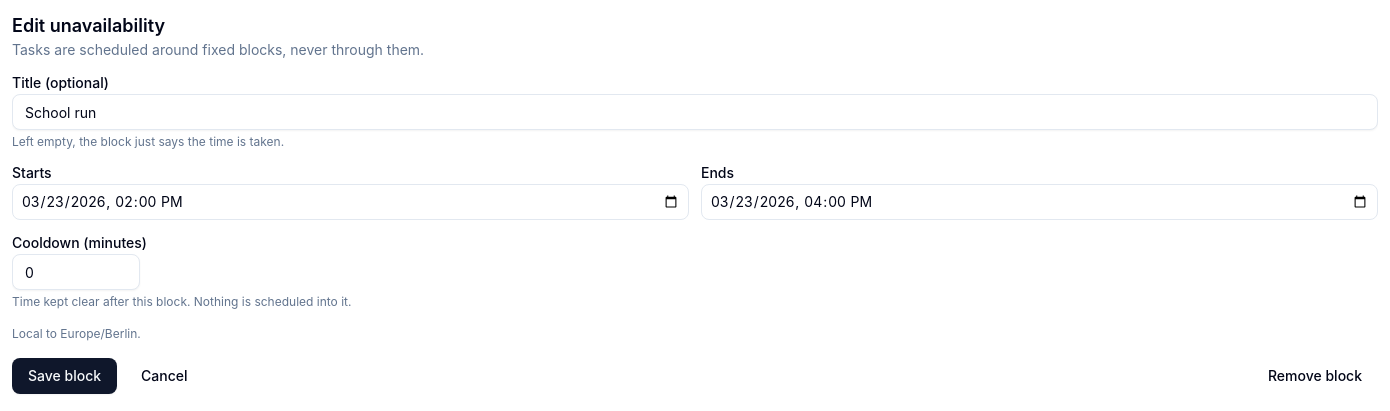
Test: when the start moves › keeps the length of a block that already has one
The width and height of the screenshot is (1390, 411).
Step 1. Replace the text in the field with test id "appointment-start" with "2026-03-23T18:00" → (350, 202), box [12, 184, 689, 220]
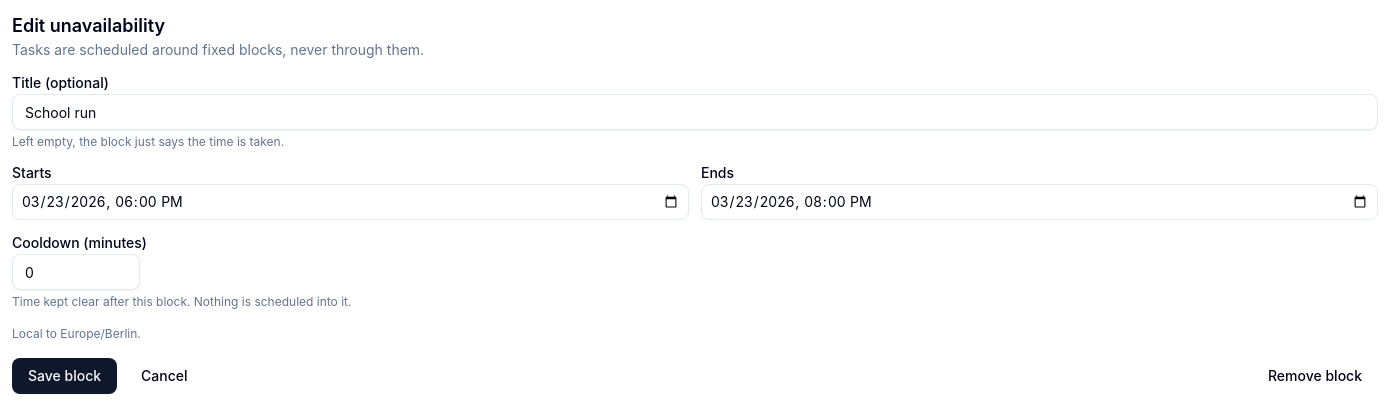
Check: the field with test id "appointment-end" holds "2026-03-23T20:00", box [701, 184, 1378, 220]
